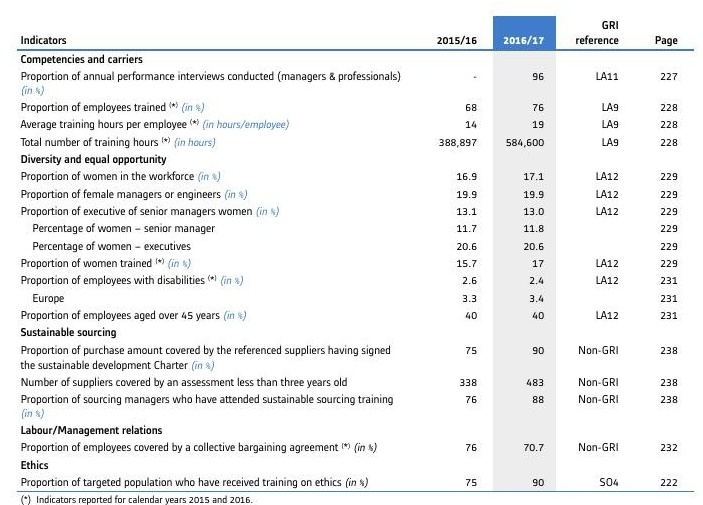table: (0, 0, 703, 505)
